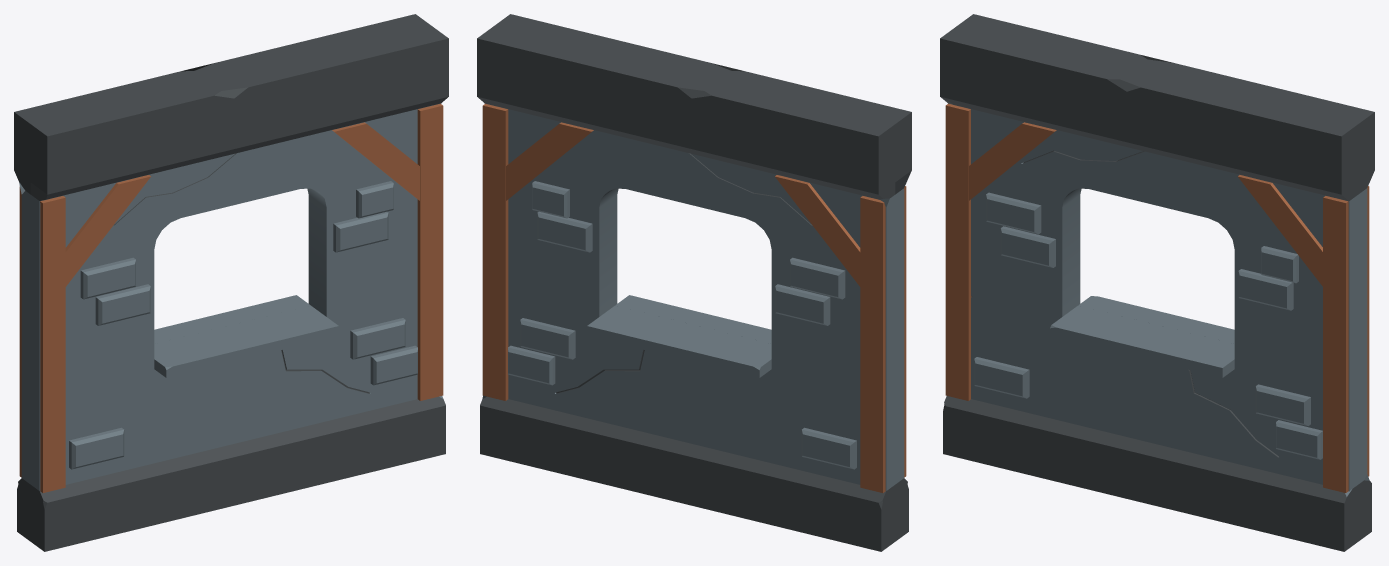
Rendered from wall_2_2.glb.
The picture shows the model from 3 angles, left to right: view 1: azimuth 30°, elevation 25°; view 2: azimuth 150°, elevation 25°; view 3: azimuth 330°, elevation 25°; orthographic projection.
Visible parts, largest first — view 1: wall_2_2; view 2: wall_2_2; view 3: wall_2_2.
Boxes of the visible parts, x1,y1,x2,y2 form: wall_2_2: (14,14,448,551); wall_2_2: (477,14,911,551); wall_2_2: (940,14,1374,551).
Bounding box in the file's own units: 1.54 × 1.53 × 0.2809.
1 material, 1 textured.
